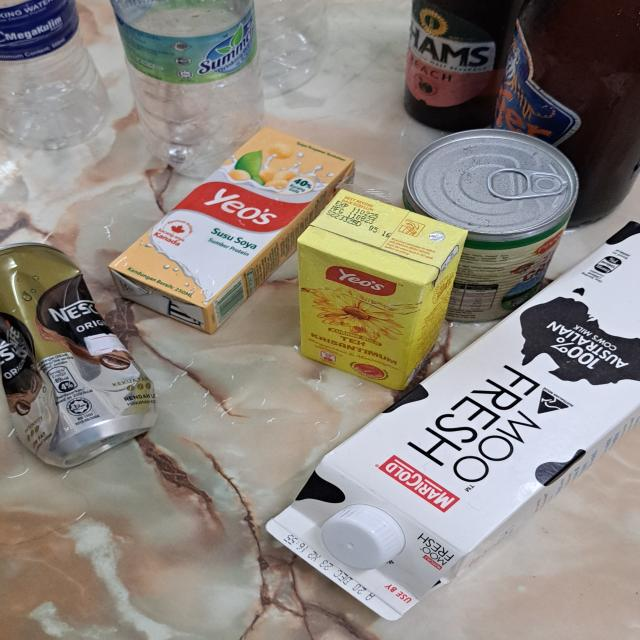can: (0, 238, 161, 472), (407, 129, 579, 321)
drink carton: (264, 216, 640, 626), (110, 126, 358, 334), (296, 186, 448, 392)
glass bottle: (497, 0, 640, 232), (405, 0, 519, 138)
plastic bottle: (118, 0, 261, 174), (0, 2, 110, 152), (224, 0, 333, 89)
plastic bottle cap: (322, 504, 401, 572)
pop tab: (488, 167, 568, 196)
